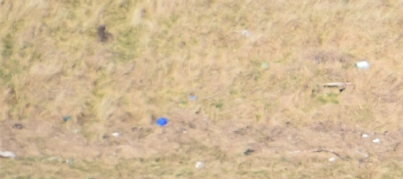white_in_green: (138, 98, 184, 144), (338, 41, 384, 87)
